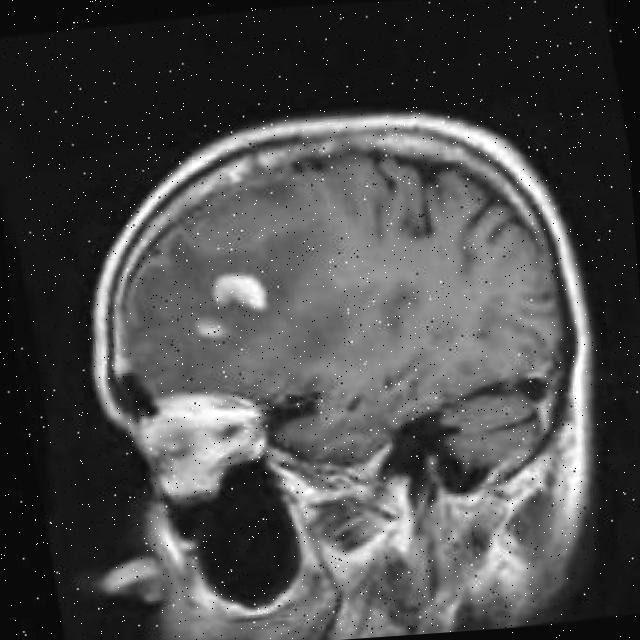LMCI: (177, 237, 312, 372)
